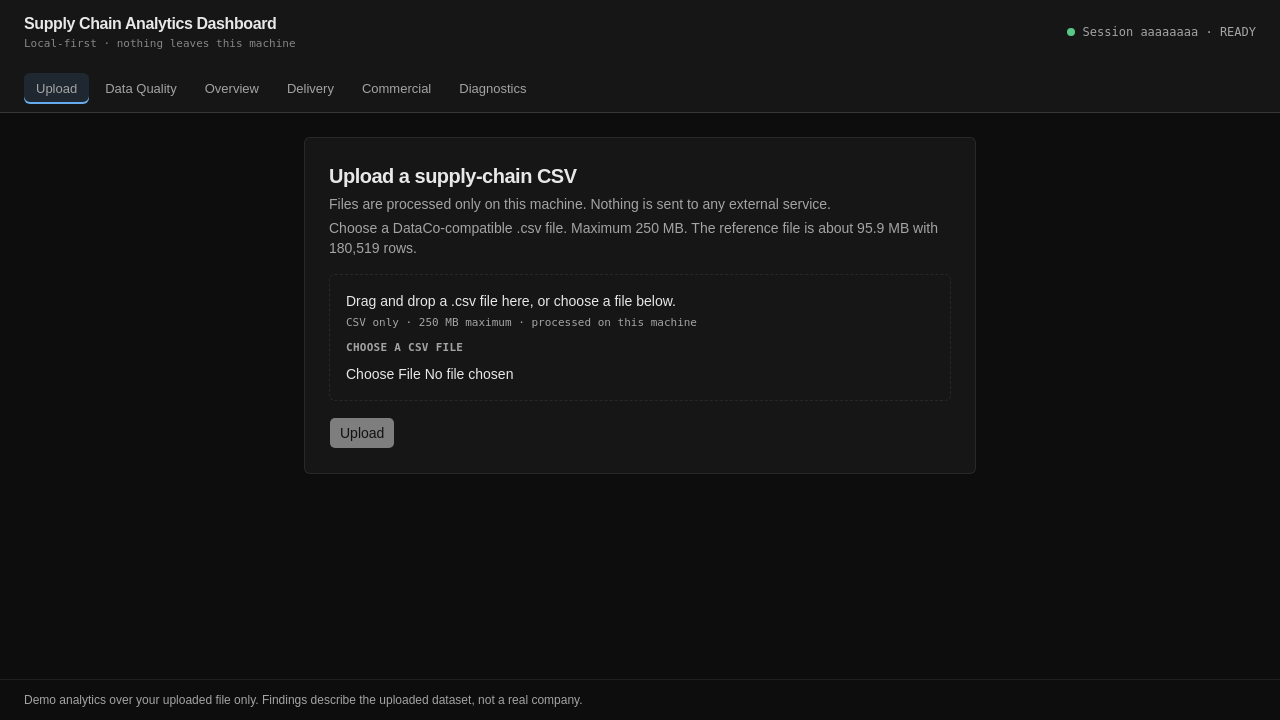
Test: Phase-15B shared analytics filters › distinguishes All/default from actively filtered without color alone
Click the button "Overview" at (232, 88), box [193,72,271,104]
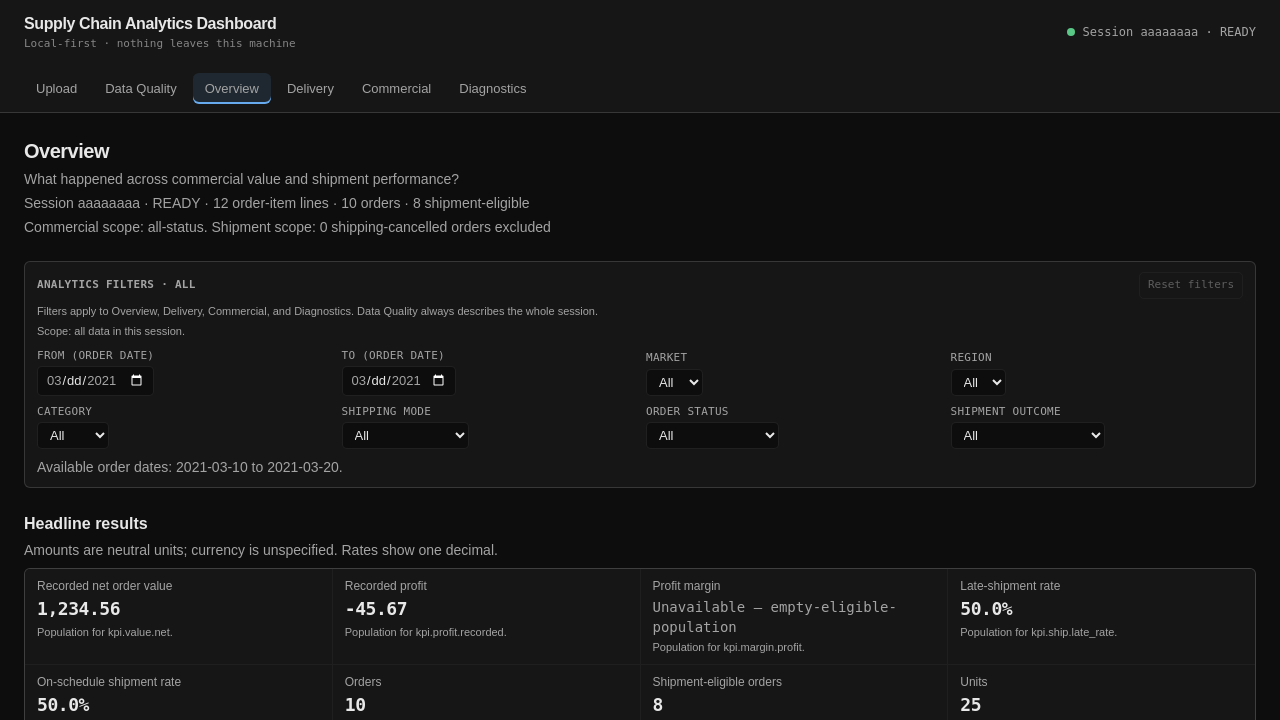
Expected: the heading "Analytics filters · all" is shown, [37,277,196,294]
Select "M1" in the dropdown labelled "Market" at (674, 382), box [646,368,703,396]
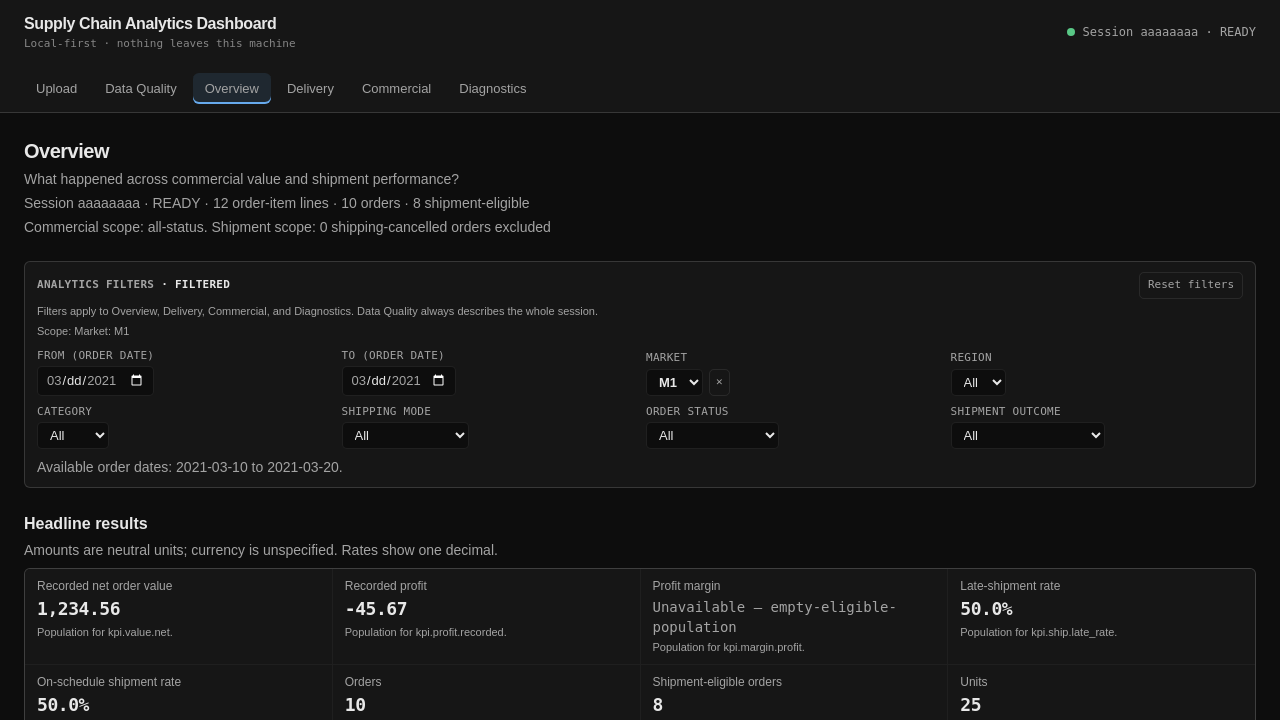
Expected: the heading "Analytics filters · filtered" is shown, [37,277,230,294]
Expected: the dropdown labelled "Market" shows "M1", [646,368,703,396]
Expected: the button named "clear market filter" is shown, [709,369,730,396]
